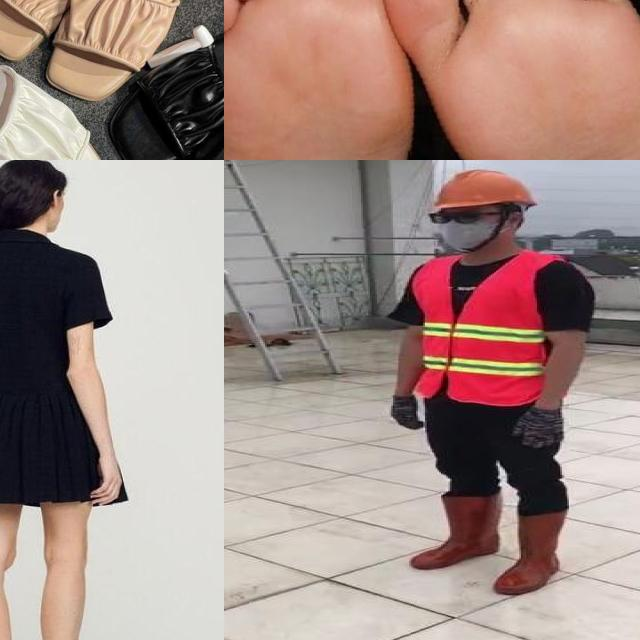Barefoots: (389, 0, 640, 160), (224, 0, 428, 160)
No_Ear-Protection: (46, 183, 68, 219)
Sandals: (0, 0, 224, 111), (95, 0, 224, 160), (0, 0, 127, 160)
boots: (404, 495, 502, 568), (492, 509, 570, 596)
face_mask: (424, 209, 502, 248)
glasses: (424, 207, 486, 228)
hand_glove: (509, 406, 567, 451), (392, 393, 431, 430)
hand_noglove: (90, 418, 125, 532)
head_helmet: (421, 166, 539, 211)
person: (376, 164, 604, 600), (0, 160, 132, 640)
vest: (404, 249, 574, 406)
